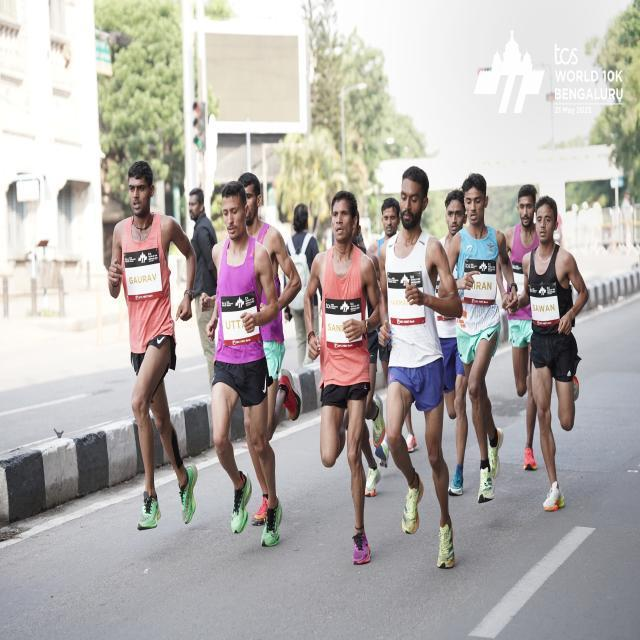dorsal: (386, 271, 426, 326), (122, 250, 164, 302), (324, 296, 364, 350), (219, 296, 259, 343), (464, 258, 498, 308), (528, 284, 561, 328)
